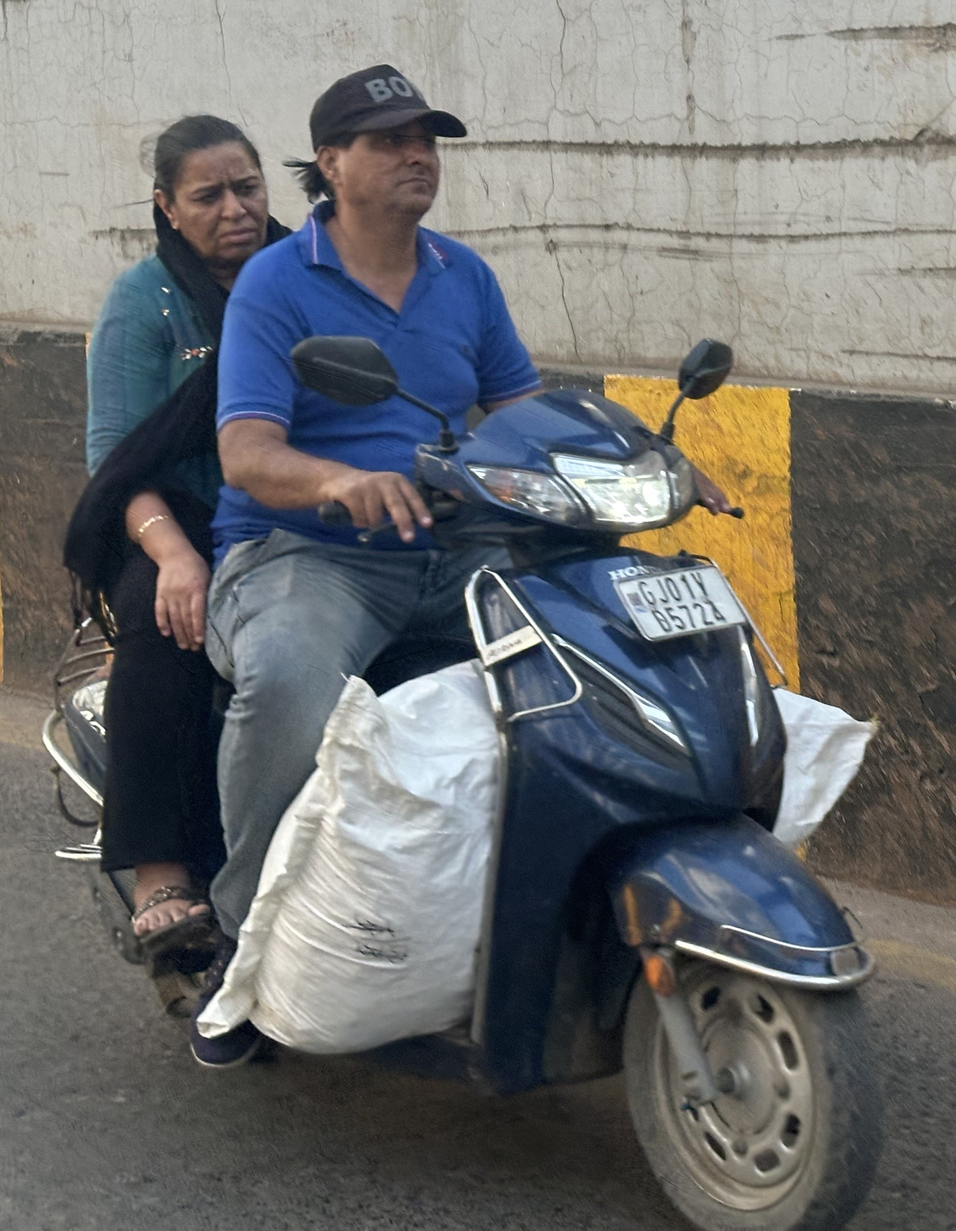Helmet: (289, 54, 479, 240), (131, 103, 293, 289)
NoHelmet: (29, 53, 907, 1231)
